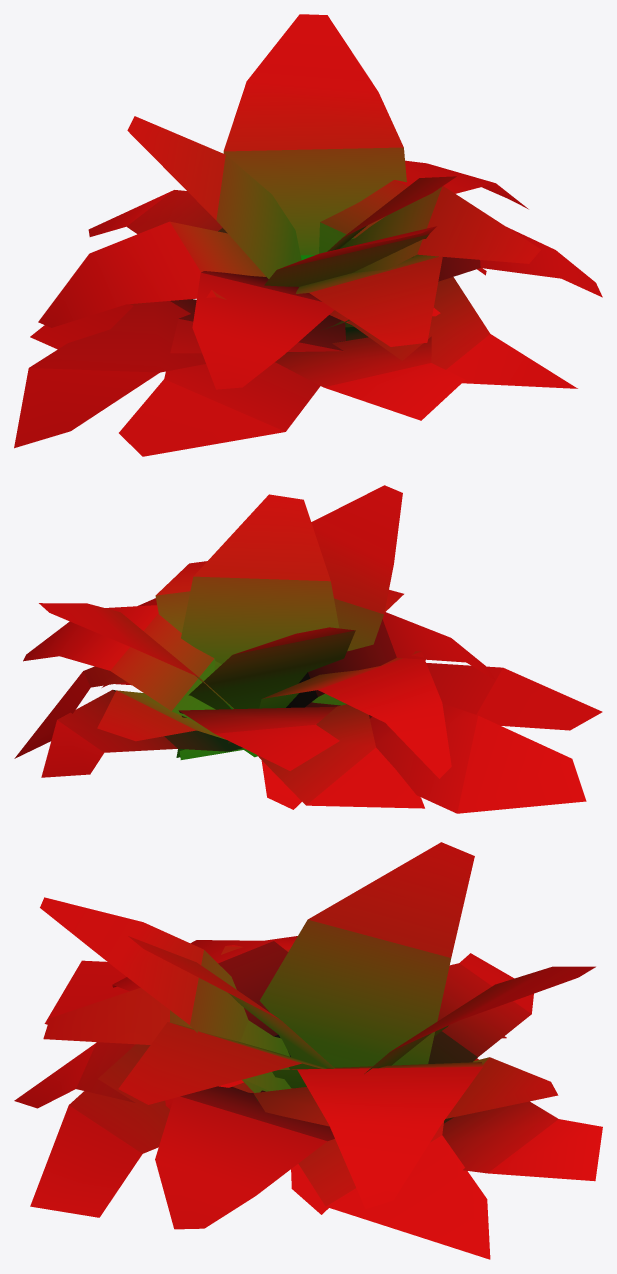
Rendered from Fern_Var2_LOD3.fbx.
The picture shows the model from 3 angles, top to bottom: view 1: azimuth 30°, elevation 25°; view 2: azimuth 150°, elevation 25°; view 3: azimuth 270°, elevation 25°; orthographic projection. The views are drawn at different scales.
Parts seen in each view (by area): view 1: Var2_LOD3; view 2: Var2_LOD3; view 3: Var2_LOD3.
Boxes of the visible parts, left/top/right/bottom form: Var2_LOD3: left=14, top=14, right=602, bottom=456; Var2_LOD3: left=14, top=485, right=602, bottom=813; Var2_LOD3: left=14, top=842, right=602, bottom=1259.
Size of the model in its own units: 60.01 by 21.94 by 47.67.
